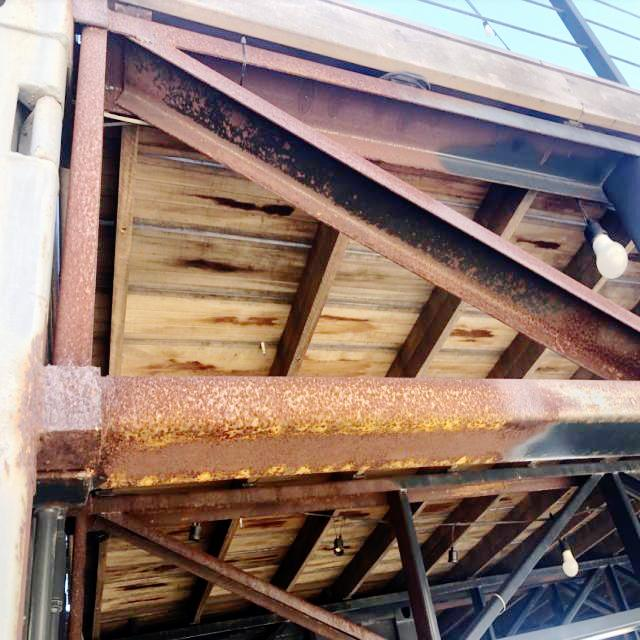Corrosion: (15, 0, 640, 640), (408, 480, 571, 503), (1, 458, 10, 482)
